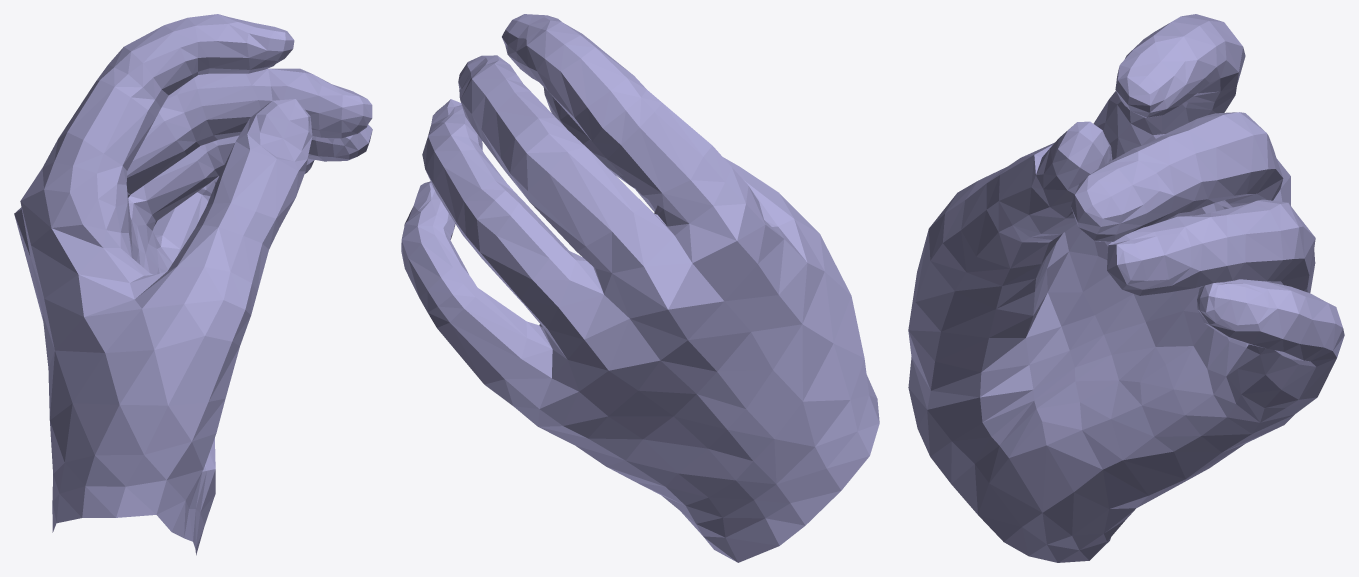
Rendered from frame_0017_source_000017_hand.glb.
The picture shows the model from 3 angles, left to right: view 1: azimuth 30°, elevation 25°; view 2: azimuth 150°, elevation 25°; view 3: azimuth 270°, elevation 25°; orthographic projection. The views are drawn at different scales.
Parts seen in each view (by area): view 1: world; view 2: world; view 3: world.
Boxes of the visible parts, x1,y1,x2,y2 form: world: (14, 14, 372, 555); world: (401, 14, 879, 562); world: (908, 14, 1344, 562).
Size of the model in its own units: 0.1119 by 0.1448 by 0.0962.
